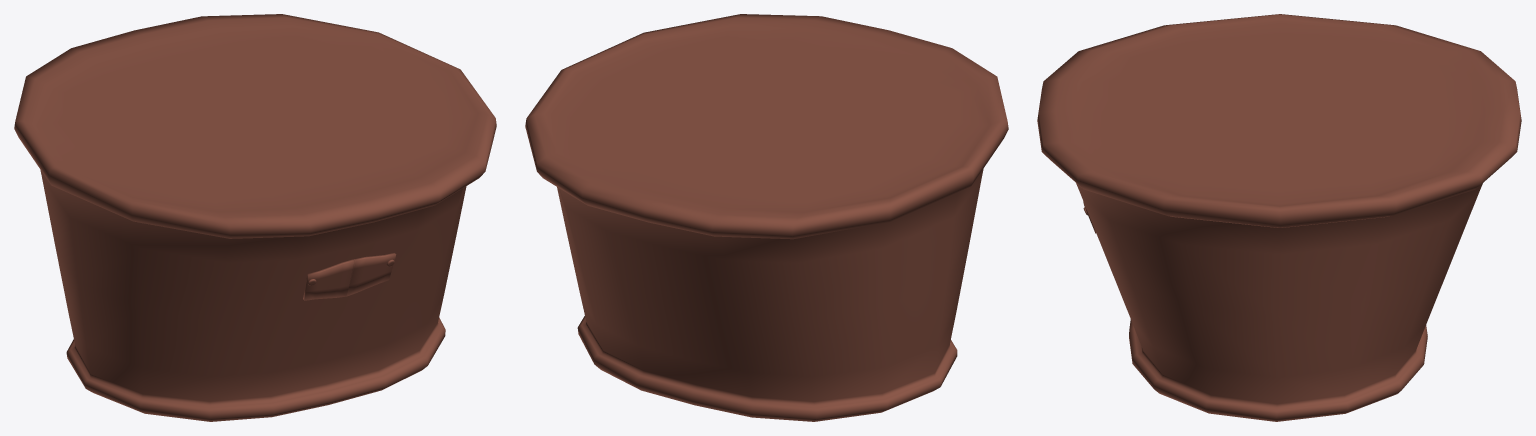
Rendered from atril.fbx.
The picture shows the model from 3 angles, left to right: view 1: azimuth 30°, elevation 25°; view 2: azimuth 150°, elevation 25°; view 3: azimuth 270°, elevation 25°; orthographic projection.
Parts seen in each view (by area): view 1: Cube, Plane; view 2: Cube; view 3: Cube.
Boxes of the visible parts, left/top/right/bottom form: Cube: left=14, top=14, right=496, bottom=421; Plane: left=303, top=253, right=396, bottom=300; Cube: left=525, top=14, right=1008, bottom=421; Cube: left=1037, top=14, right=1521, bottom=421.
Bounding box in the file's own units: 961 × 524 × 985.
